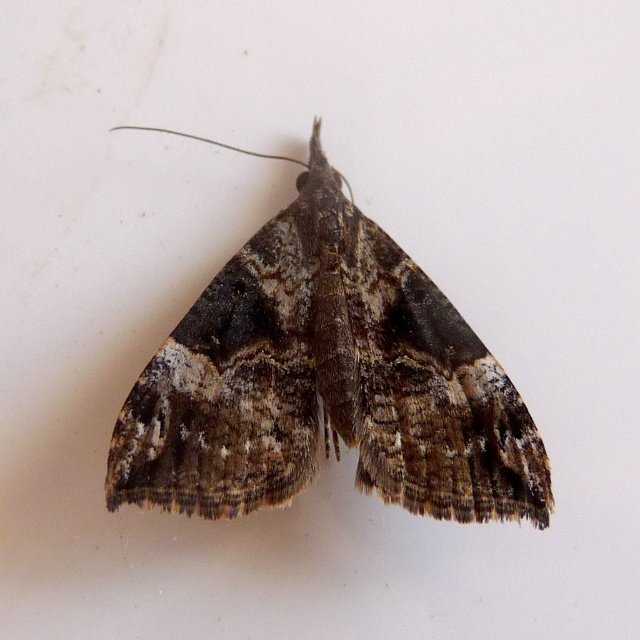Butterfly: (114, 111, 551, 529)
